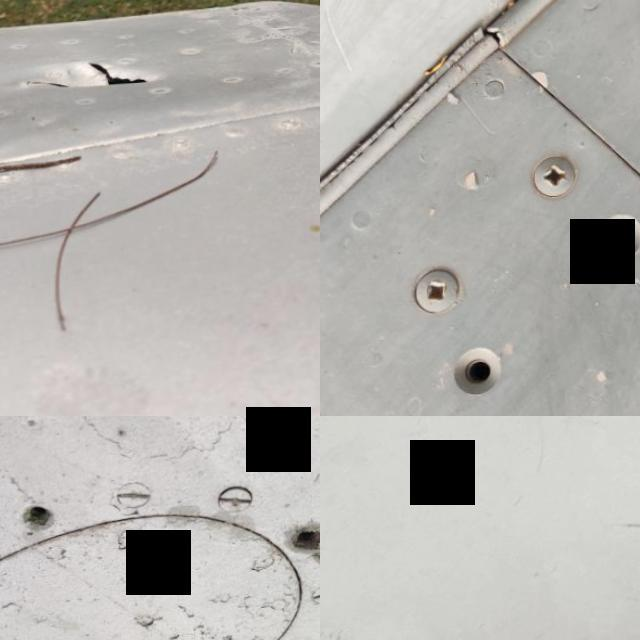Crack: (16, 48, 180, 98)
Missing_Fastener: (425, 314, 538, 416), (2, 482, 81, 559), (577, 197, 640, 284), (272, 501, 320, 579)
